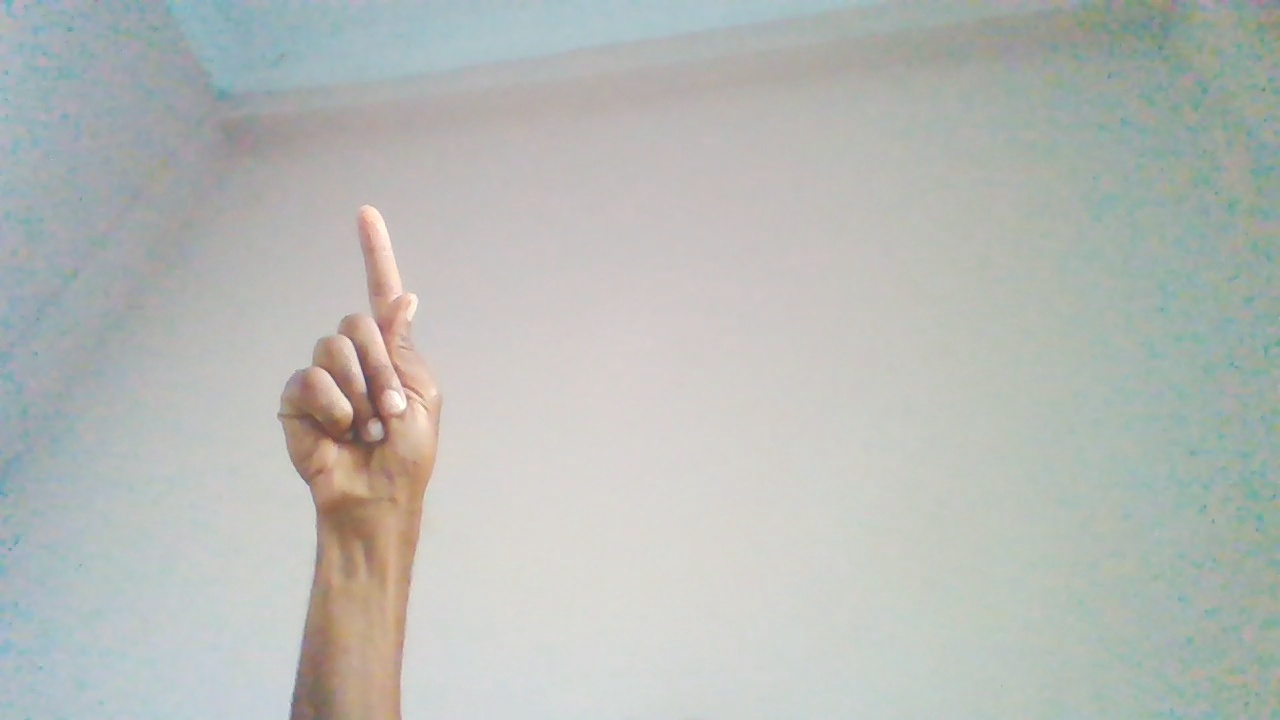ne: (275, 209, 454, 589)
